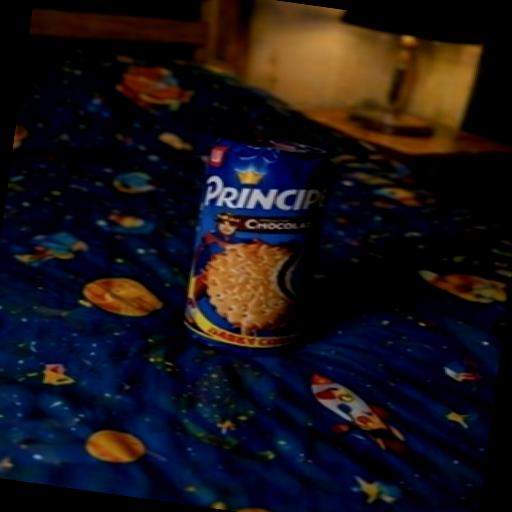prince: (63, 72, 481, 433)
